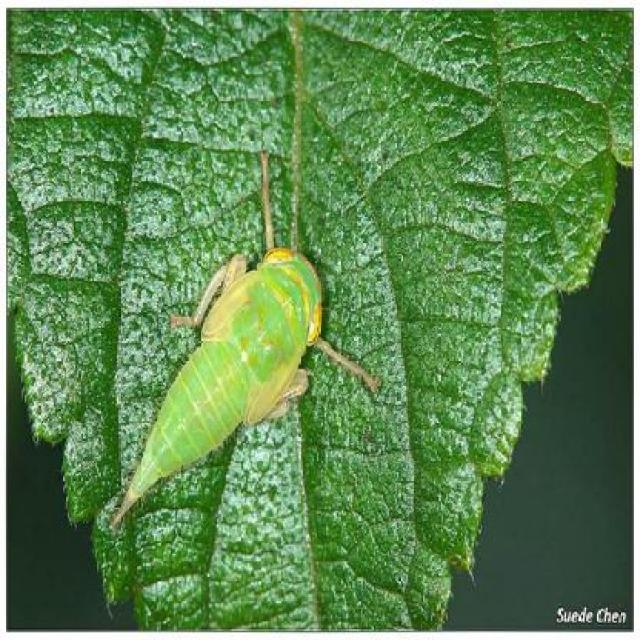green-leafhopper: (114, 243, 329, 534)
